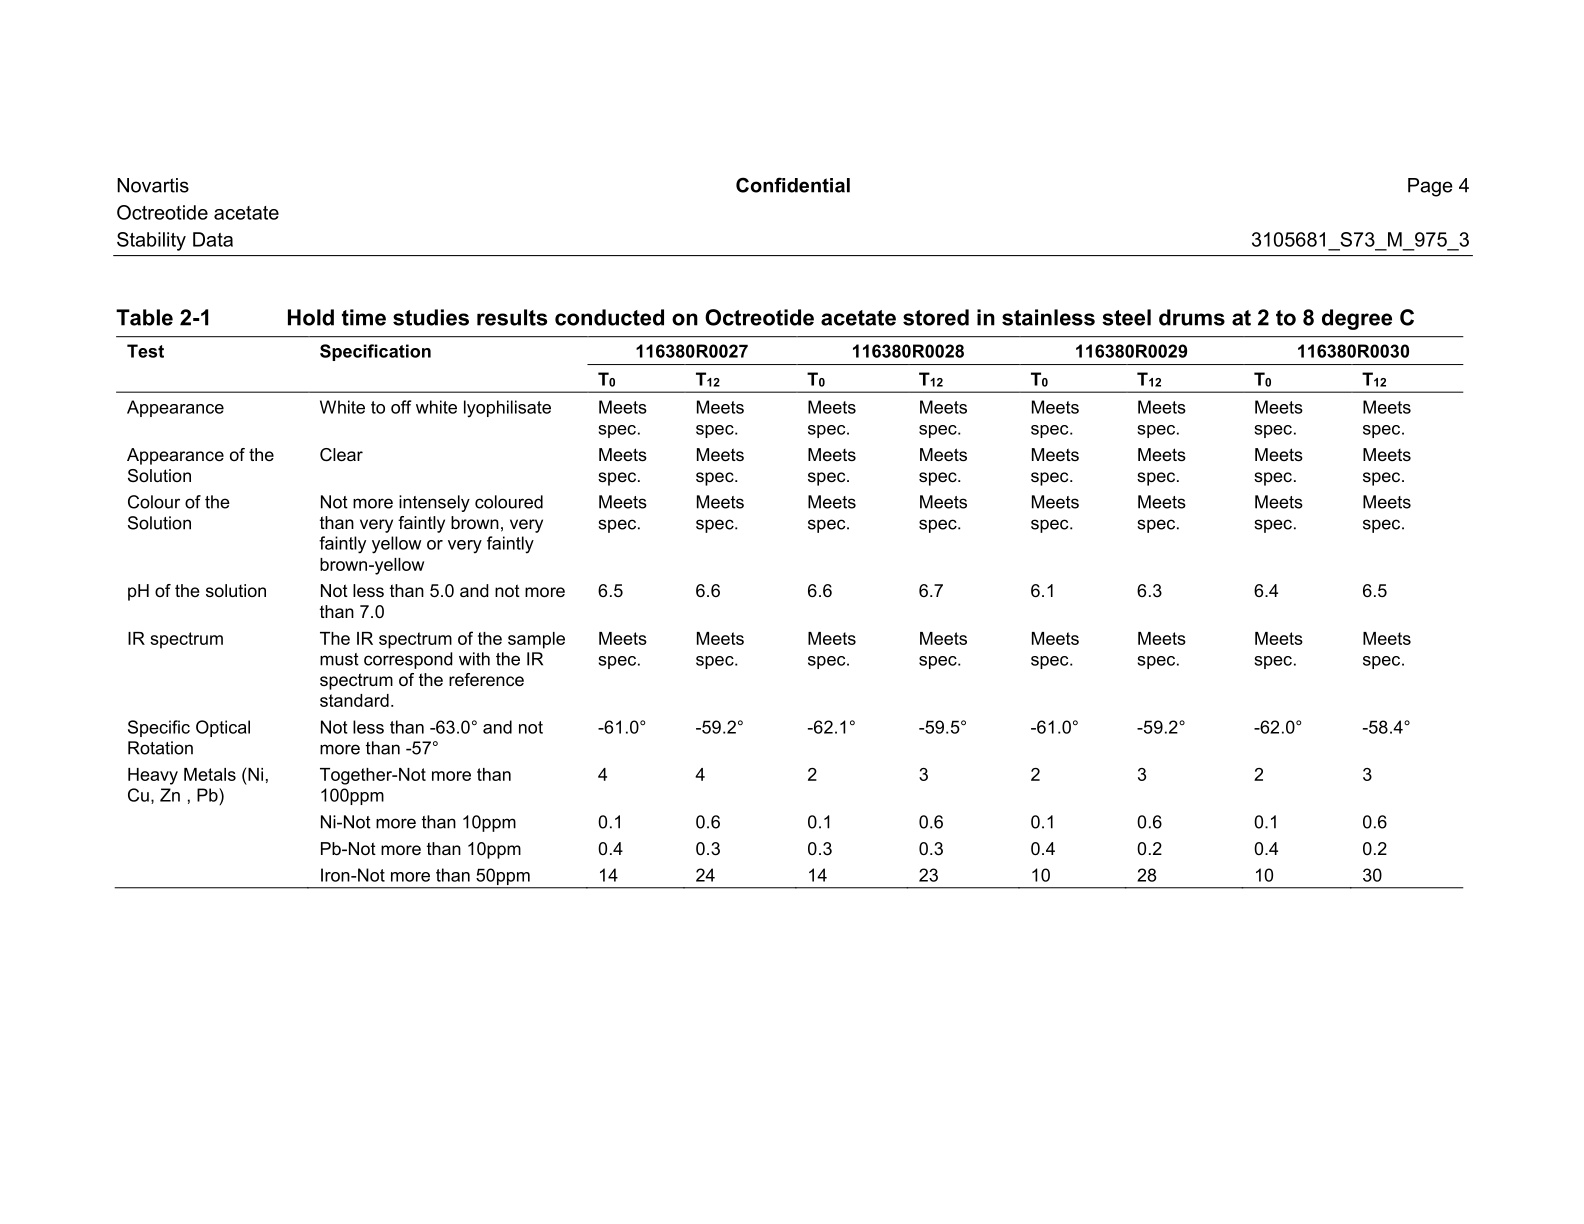partial_lined_merged_cells: (114, 336, 1464, 890)
